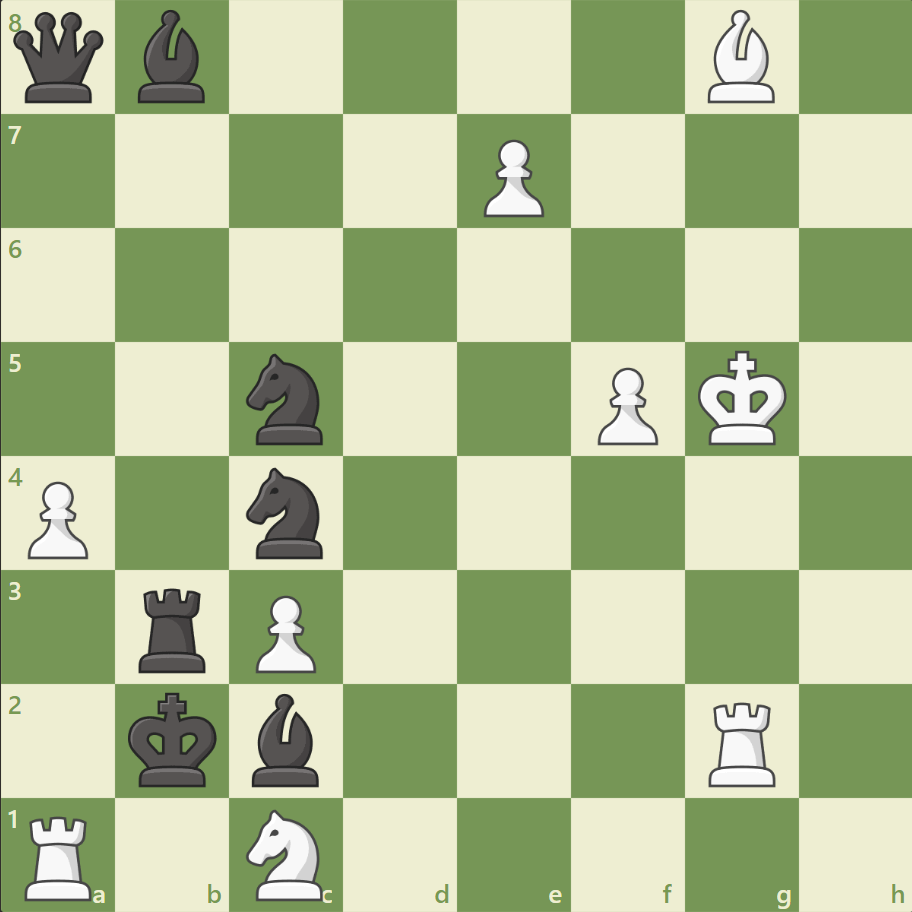B: (698, 6, 782, 109)
K: (692, 344, 792, 452)
N: (238, 802, 335, 904)
P: (474, 132, 549, 223), (20, 473, 95, 564), (247, 586, 322, 677), (588, 359, 662, 450)
R: (19, 806, 102, 904), (700, 693, 783, 790)
b: (131, 6, 215, 109), (244, 687, 328, 790)
k: (124, 685, 224, 793)
n: (238, 461, 335, 564), (238, 348, 335, 450)
q: (10, 9, 109, 108)
r: (133, 579, 215, 676)
